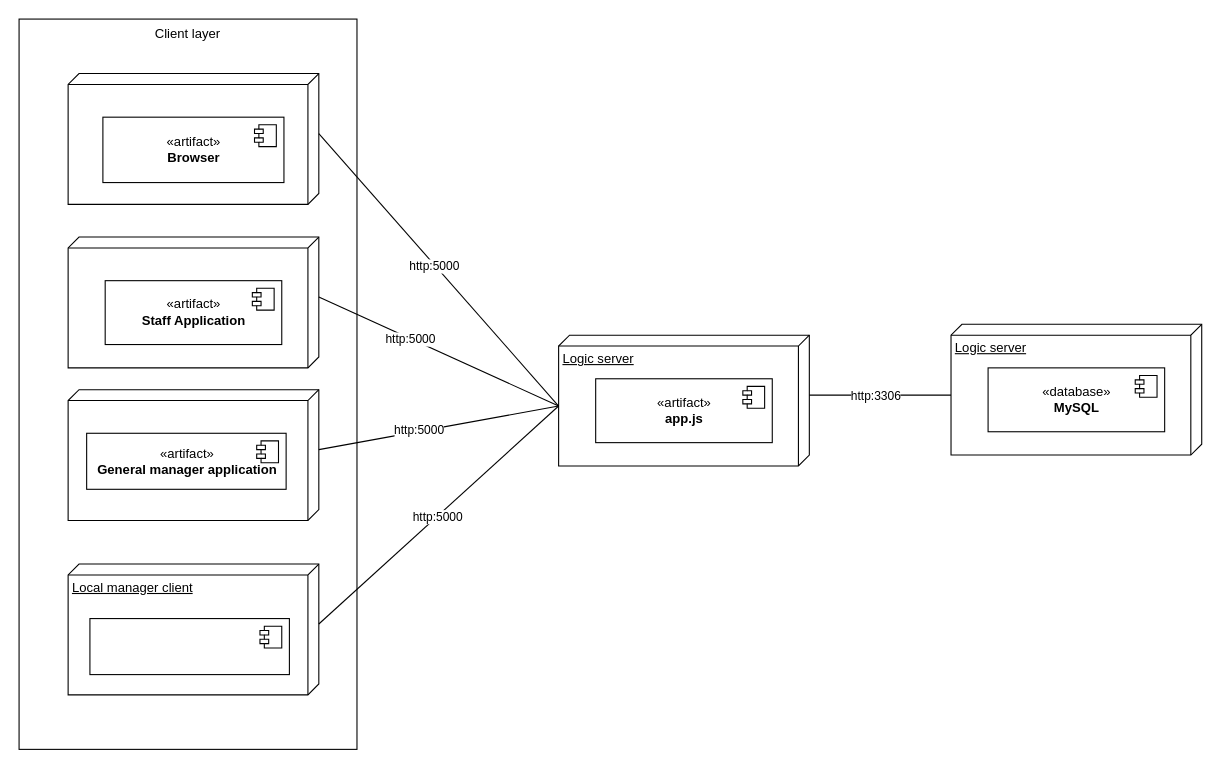
This 1221x768 diagram has some shape labels left out. The shapes that lost their labels are listed below. From the top down, each one's box as (x1, y1, x2, y2) in pixels, then its label:
(67, 72, 319, 204): User client
(67, 236, 319, 368): Staff client
(67, 389, 319, 520): General manager client
(89, 617, 289, 675): «artifact» Local manager application
